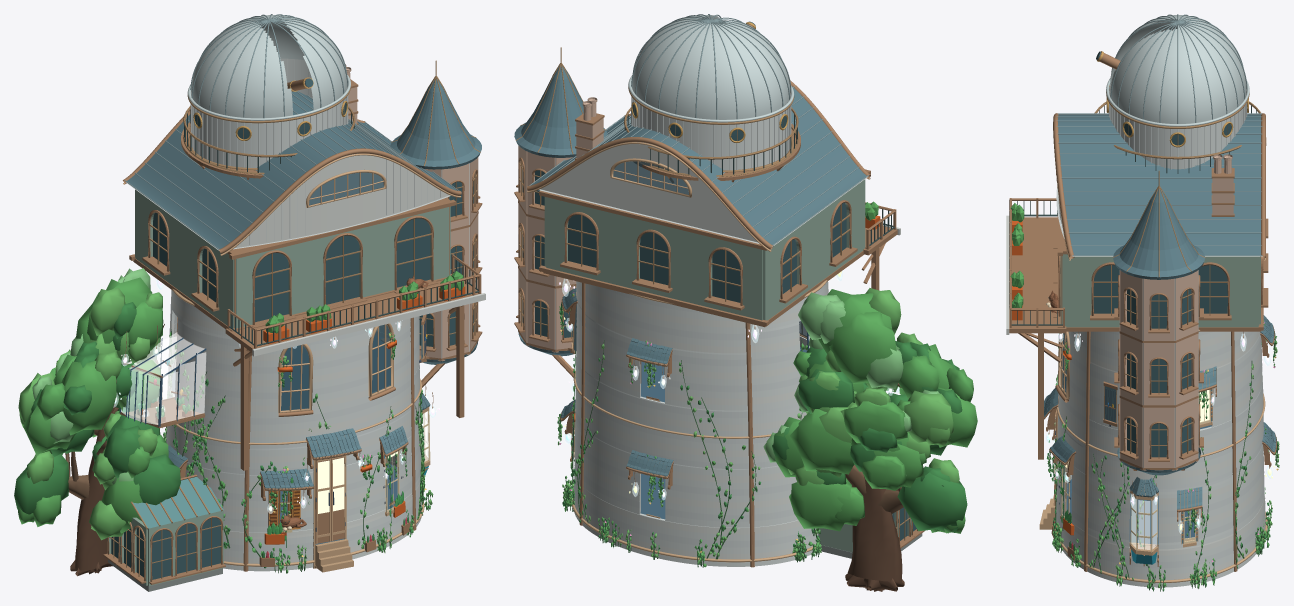
The model's file is exterior-home.glb.
The picture shows the model from 3 angles, left to right: view 1: azimuth 30°, elevation 25°; view 2: azimuth 150°, elevation 25°; view 3: azimuth 270°, elevation 25°; orthographic projection.
Visible parts, largest first — view 1: M01_Reuse_TREE_Left_Foliage, M01_Reuse_CURVE_BellGable_SlateRoof, M01_Reuse_ObsDome_Curved, M01_Reuse_CURVE_ArchedGable_PaintedTimber, M01_Reuse_EXT_Vegetation_Detail, M01_Reuse_CURVE_Observatory_CylindricalDrum, M01_Tower_WitchHat, M01_Reuse_TREE_Left_Trunk, M01_GrandBalcony_Deck, M01_Conservatory_RoofGlass, M01_UpperFloor_Front_Glass.002, M01_UpperFloor_Front_Glass (+62 smaller); view 2: M01_Reuse_TREE_Left_Foliage, M01_Reuse_ObsDome_Curved, M01_Reuse_CURVE_BellGable_SlateRoof, M01_Reuse_CURVE_ArchedGable_Rear, M01_Reuse_EXT_Vegetation_Detail, M01_Reuse_TREE_Left_Trunk, M01_Reuse_CURVE_Observatory_CylindricalDrum, M01_Tower_WitchHat, M01_Reuse_CURVE_Gable_Back_Bargeboard, M01_UpperFloor_Rear_Pier_R, M01_UpperFloor_Rear_R.001, M01_UpperFloor_Rear_R.002 (+66 smaller); view 3: M01_Reuse_CURVE_BellGable_SlateRoof, M01_Reuse_ObsDome_Curved, M01_Reuse_EXT_Vegetation_Detail, M01_Tower_WitchHat, M01_GrandBalcony_Deck, M01_Reuse_CURVE_Observatory_CylindricalDrum, M01_UpperFloor_Side_R.003, M01_UpperFloor_Side_L.002, M01_Reuse_INT_Slab_Living, M01_UpperFloor_Side_Glass.004, M01_UpperFloor_Side_Glass.003, M01_Reuse_EXT_MagicLanterns (+62 smaller).
Boxes of the visible parts, x1,y1,x2,y2 form: M01_Reuse_TREE_Left_Foliage: (14, 268, 180, 540); M01_Reuse_CURVE_BellGable_SlateRoof: (127, 91, 456, 248); M01_Reuse_ObsDome_Curved: (191, 15, 347, 118); M01_Reuse_CURVE_ArchedGable_PaintedTimber: (234, 153, 449, 248); M01_Reuse_EXT_Vegetation_Detail: (163, 329, 433, 573); M01_Reuse_CURVE_Observatory_CylindricalDrum: (192, 58, 347, 167); M01_Tower_WitchHat: (390, 79, 481, 169); M01_Reuse_TREE_Left_Trunk: (65, 324, 164, 576); M01_GrandBalcony_Deck: (225, 274, 478, 352); M01_Conservatory_RoofGlass: (133, 476, 223, 528); M01_UpperFloor_Front_Glass.002: (325, 235, 359, 304); M01_UpperFloor_Front_Glass: (254, 253, 288, 322); M01_Reuse_TREE_Left_Foliage: (763, 288, 977, 533); M01_Reuse_ObsDome_Curved: (632, 15, 790, 119); M01_Reuse_CURVE_BellGable_SlateRoof: (531, 86, 866, 244); M01_Reuse_CURVE_ArchedGable_Rear: (540, 142, 757, 242); M01_Reuse_EXT_Vegetation_Detail: (557, 292, 821, 567); M01_Reuse_TREE_Left_Trunk: (845, 383, 904, 591); M01_Reuse_CURVE_Observatory_CylindricalDrum: (632, 89, 790, 170); M01_Tower_WitchHat: (514, 66, 607, 157); M01_Reuse_CURVE_Gable_Back_Bargeboard: (527, 137, 773, 249); M01_UpperFloor_Rear_Pier_R: (598, 210, 618, 284); M01_UpperFloor_Rear_R.001: (670, 227, 690, 302); M01_UpperFloor_Rear_R.002: (742, 245, 762, 320); M01_Reuse_CURVE_BellGable_SlateRoof: (1058, 115, 1260, 255); M01_Reuse_ObsDome_Curved: (1110, 15, 1246, 123); M01_Reuse_EXT_Vegetation_Detail: (1046, 320, 1279, 591); M01_Tower_WitchHat: (1113, 189, 1204, 279); M01_GrandBalcony_Deck: (1009, 217, 1066, 333); M01_Reuse_CURVE_Observatory_CylindricalDrum: (1109, 83, 1245, 169); M01_UpperFloor_Side_R.003: (1229, 256, 1259, 327); M01_UpperFloor_Side_L.002: (1062, 254, 1092, 327); M01_Reuse_INT_Slab_Living: (1067, 479, 1194, 546); M01_UpperFloor_Side_Glass.004: (1198, 265, 1227, 313); M01_UpperFloor_Side_Glass.003: (1093, 265, 1119, 313); M01_Reuse_EXT_MagicLanterns: (1044, 332, 1274, 533).
Size of what is drawn, in the model's own units: 31.81 by 34.67 by 16.67.
